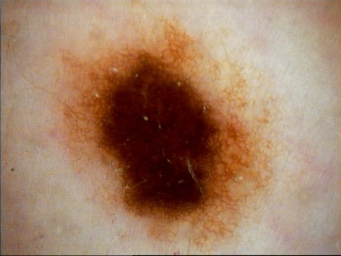melanoma: (65, 21, 259, 244)
